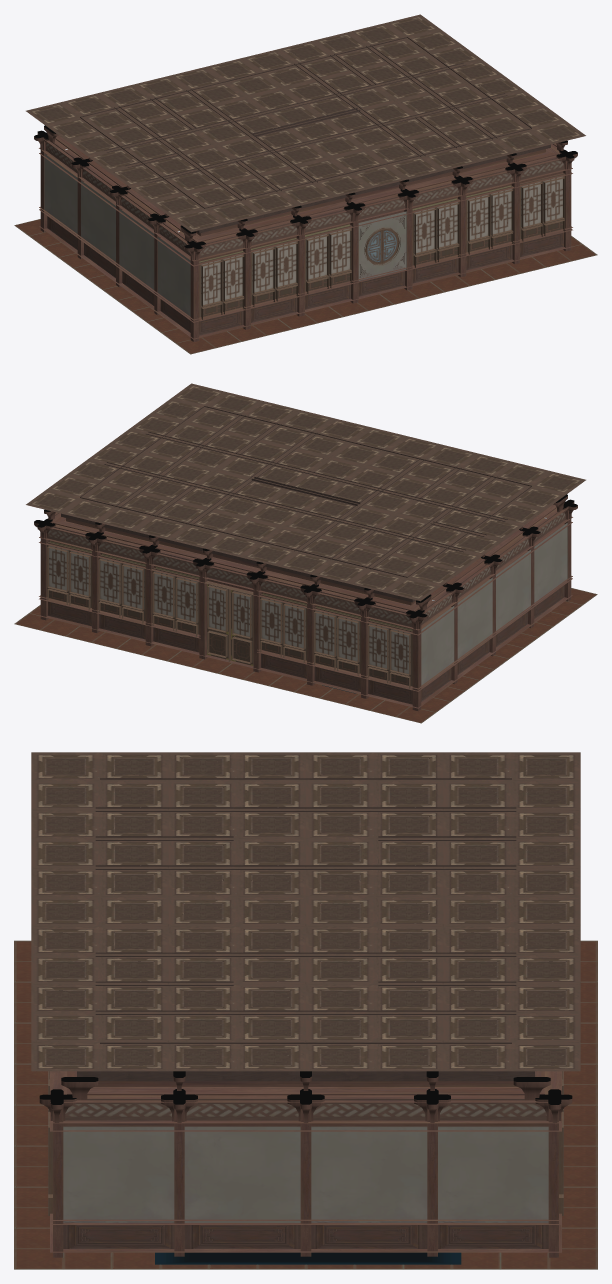
File: IndoorScene_Ly_Xinyuexuan.fbx
The picture shows the model from 3 angles, top to bottom: view 1: azimuth 30°, elevation 25°; view 2: azimuth 150°, elevation 25°; view 3: azimuth 270°, elevation 25°; orthographic projection. The views are drawn at different scales.
Visible parts, largest first — view 1: Indoor_Ly_Build_Xinyuexuan_01_Vo, Indoor_Ly_Prop_Pillar_01_Vo (14), Indoor_Ly_Prop_Pillar_01_Vo (12), Indoor_Ly_Prop_Pillar_01_Vo (11), Indoor_Ly_Prop_Pillar_01_Vo (10), Indoor_Ly_Prop_Pillar_01_Vo (8), Indoor_Ly_Prop_Pillar_01_Vo (15), Indoor_Ly_Prop_Pillar_01_Vo (9), Indoor_Ly_Prop_Pillar_01_Vo (13), Indoor_Ly_Prop_Pillar_01_Vo (7), Indoor_Ly_Prop_Pillar_01_Vo (18), Indoor_Ly_Prop_Pillar_01_Vo (19) (+1 smaller); view 2: Indoor_Ly_Build_Xinyuexuan_01_Vo, Indoor_Ly_Prop_Pillar_01_Vo (7), Indoor_Ly_Prop_Pillar_01_Vo (2), Indoor_Ly_Prop_Pillar_01_Vo (1), Indoor_Ly_Prop_Pillar_01_Vo, Indoor_Ly_Prop_Pillar_01_Vo (5), Indoor_Ly_Prop_Pillar_01_Vo (4), Indoor_Ly_Prop_Pillar_01_Vo (3), Indoor_Ly_Prop_Pillar_01_Vo (6), Indoor_Ly_Prop_Pillar_01_Vo (14), Indoor_Ly_Prop_Pillar_01_Vo (19), Indoor_Ly_Prop_Pillar_01_Vo (18) (+1 smaller); view 3: Indoor_Ly_Build_Xinyuexuan_01_Vo, Indoor_MDBuild_Ao04 (3), Indoor_Ly_Prop_Pillar_01_Vo (4), Indoor_Ly_Prop_Pillar_01_Vo (15), Indoor_Ly_Prop_Pillar_01_Vo (21), Indoor_Ly_Prop_Pillar_01_Vo (16), Indoor_Ly_Prop_Pillar_01_Vo (17).
Part boxes in pixels (x1,y1,x2,y2): Indoor_Ly_Build_Xinyuexuan_01_Vo: (14,14,597,354); Indoor_Ly_Prop_Pillar_01_Vo (14): (180,225,206,341); Indoor_Ly_Prop_Pillar_01_Vo (12): (451,166,473,277); Indoor_Ly_Prop_Pillar_01_Vo (11): (343,192,365,303); Indoor_Ly_Prop_Pillar_01_Vo (10): (290,205,311,316); Indoor_Ly_Prop_Pillar_01_Vo (8): (397,179,419,290); Indoor_Ly_Prop_Pillar_01_Vo (15): (556,140,577,251); Indoor_Ly_Prop_Pillar_01_Vo (9): (505,153,526,264); Indoor_Ly_Prop_Pillar_01_Vo (13): (236,219,257,329); Indoor_Ly_Prop_Pillar_01_Vo (7): (34,125,58,232); Indoor_Ly_Prop_Pillar_01_Vo (18): (71,157,92,259); Indoor_Ly_Prop_Pillar_01_Vo (19): (147,213,169,315); Indoor_Ly_Build_Xinyuexuan_01_Vo: (14,383,597,723); Indoor_Ly_Prop_Pillar_01_Vo (7): (405,594,431,710); Indoor_Ly_Prop_Pillar_01_Vo (2): (138,535,160,646); Indoor_Ly_Prop_Pillar_01_Vo (1): (192,548,214,659); Indoor_Ly_Prop_Pillar_01_Vo: (246,561,268,672); Indoor_Ly_Prop_Pillar_01_Vo (5): (300,574,321,685); Indoor_Ly_Prop_Pillar_01_Vo (4): (34,509,55,620); Indoor_Ly_Prop_Pillar_01_Vo (3): (85,522,106,633); Indoor_Ly_Prop_Pillar_01_Vo (6): (354,588,375,698); Indoor_Ly_Prop_Pillar_01_Vo (14): (553,494,577,601); Indoor_Ly_Prop_Pillar_01_Vo (19): (519,526,540,628); Indoor_Ly_Prop_Pillar_01_Vo (18): (442,582,464,684); Indoor_Ly_Build_Xinyuexuan_01_Vo: (14,752,597,1269); Indoor_MDBuild_Ao04 (3): (155,1252,461,1264); Indoor_Ly_Prop_Pillar_01_Vo (4): (513,1077,572,1257); Indoor_Ly_Prop_Pillar_01_Vo (15): (39,1077,98,1257); Indoor_Ly_Prop_Pillar_01_Vo (21): (287,1071,324,1256); Indoor_Ly_Prop_Pillar_01_Vo (16): (414,1071,450,1256); Indoor_Ly_Prop_Pillar_01_Vo (17): (161,1071,197,1256).
Size of what is drawn, in the model's own units: 18.22 by 5.15 by 13.67.
